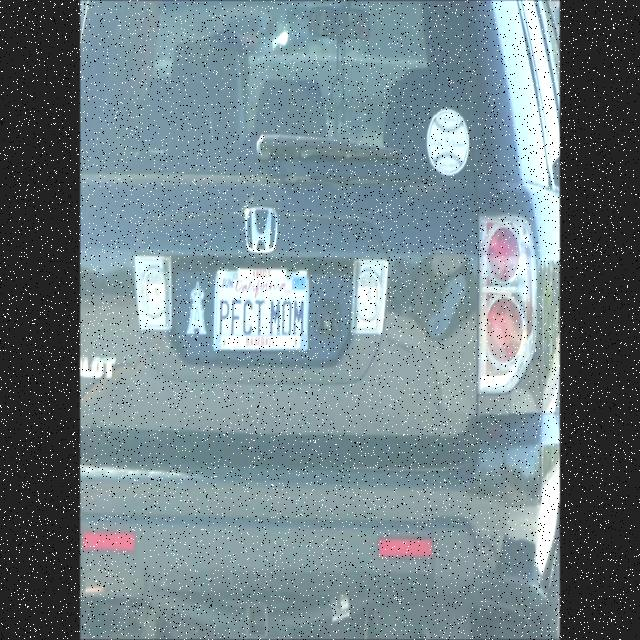licenseplate: (206, 254, 322, 376)
